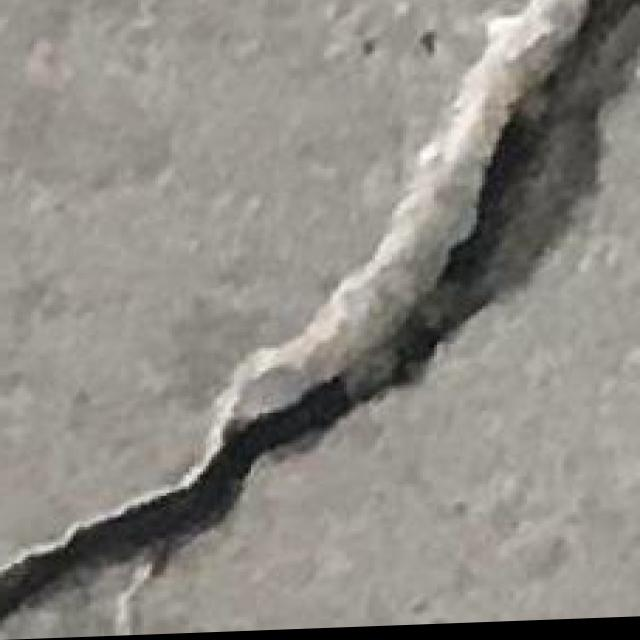Crack: (0, 0, 626, 632)
